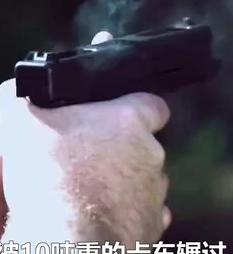gun: (1, 1, 233, 254)
